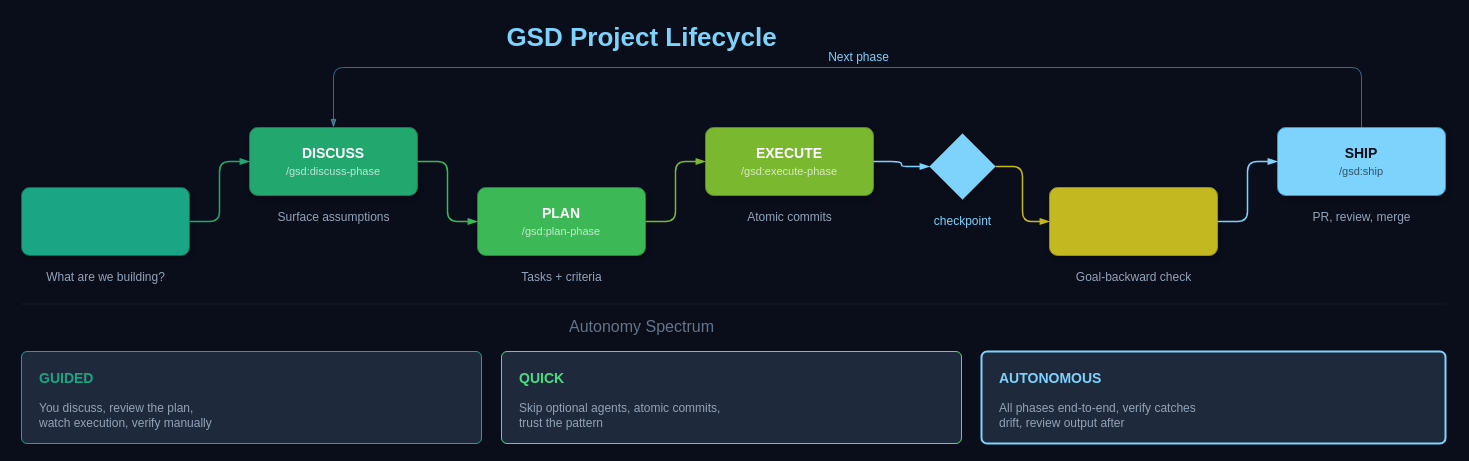
The diagram is 1469 pixels wide and 461 high, and some of its shapes have lost their labels. Each missing label, with the centre of its shape:
GATE: point 963,167
INIT /gsd:new-project: point 106,222
VERIFY /gsd:verify-work: point 1134,222
